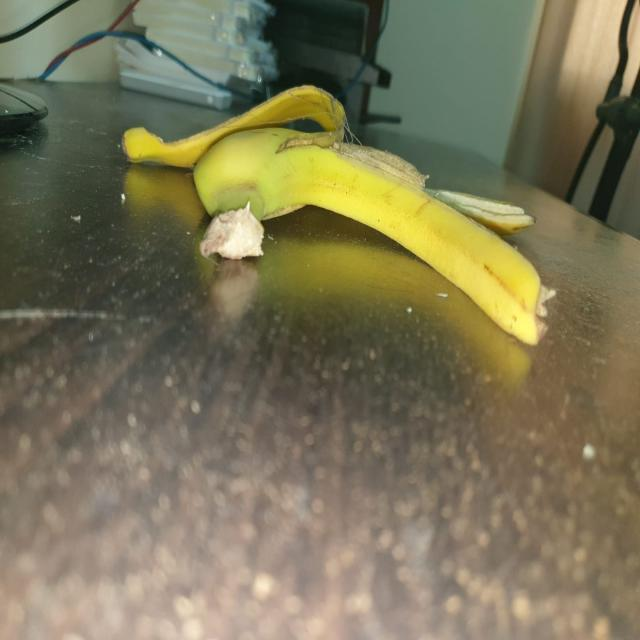banana-peel: (120, 82, 562, 350)
